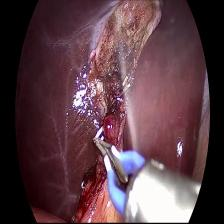Bipolar: (88, 131, 169, 221)
